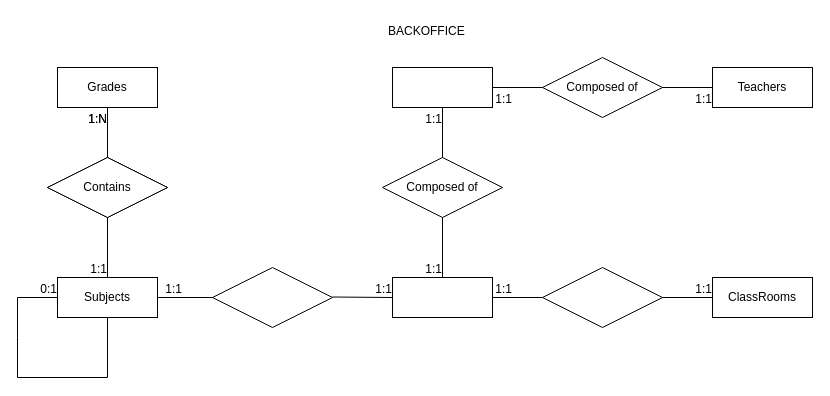
Image size: 830x396. Some labels were removed from this diagram. Here are the shapes that lost their labels. From the top down, the box of each, then its label:
(392, 66, 492, 108): Assignments
(212, 266, 332, 328): Belongs
(392, 276, 492, 318): Classes
(542, 266, 662, 328): Depends
